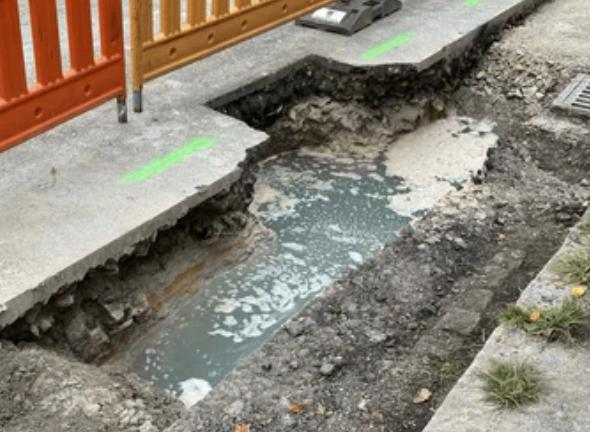water accumulation: (100, 141, 402, 413)
